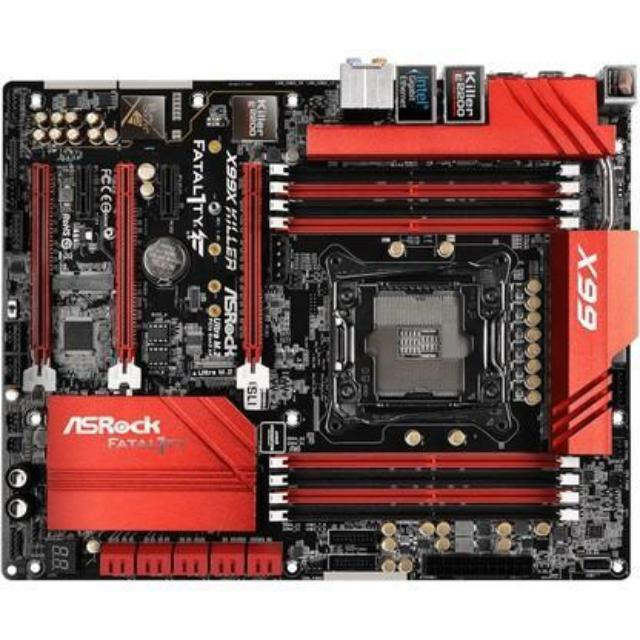Mainboard: (0, 51, 638, 606)
